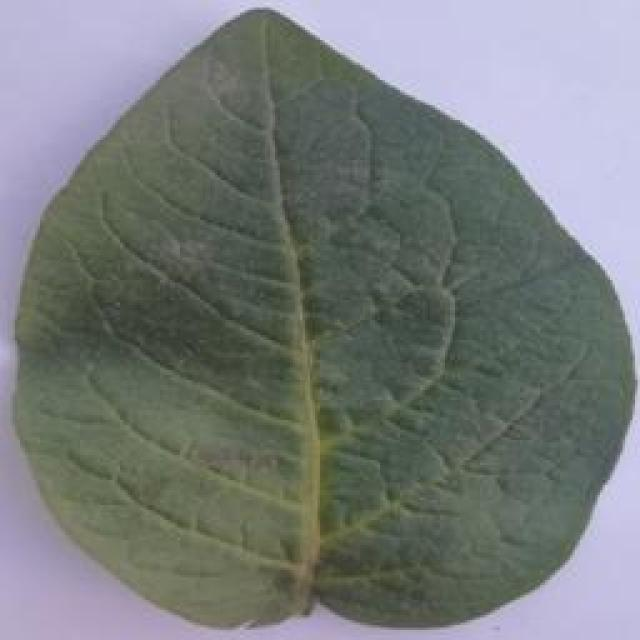Potato_Healthy: (14, 4, 627, 628)
